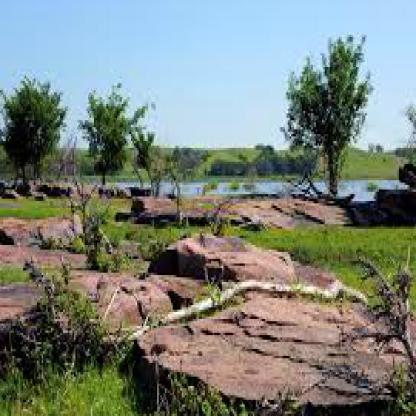Metamorphic_Quartize: (152, 220, 299, 284)
